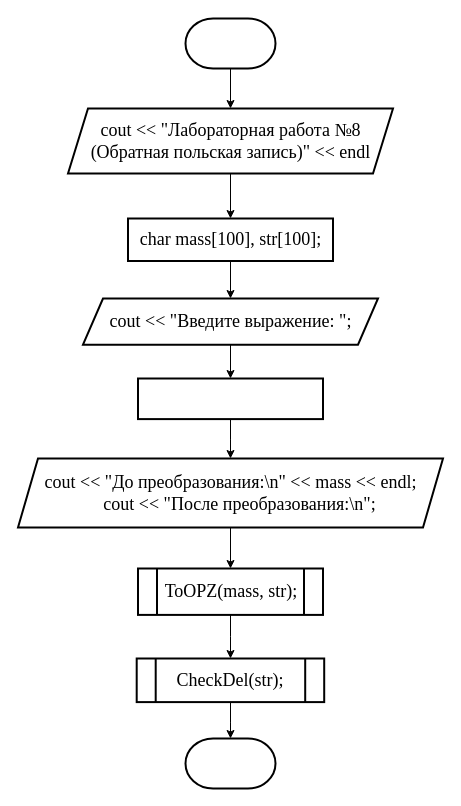
Image size: 461x806. Some labels were removed from this diagram. Here are the shapes that lost their labels. From the top down, the centre of each, then its label:
At point 230,43: "Начало".
At point 230,398: "cin.getline(mass, 100);".
At point 230,763: "Конец".
